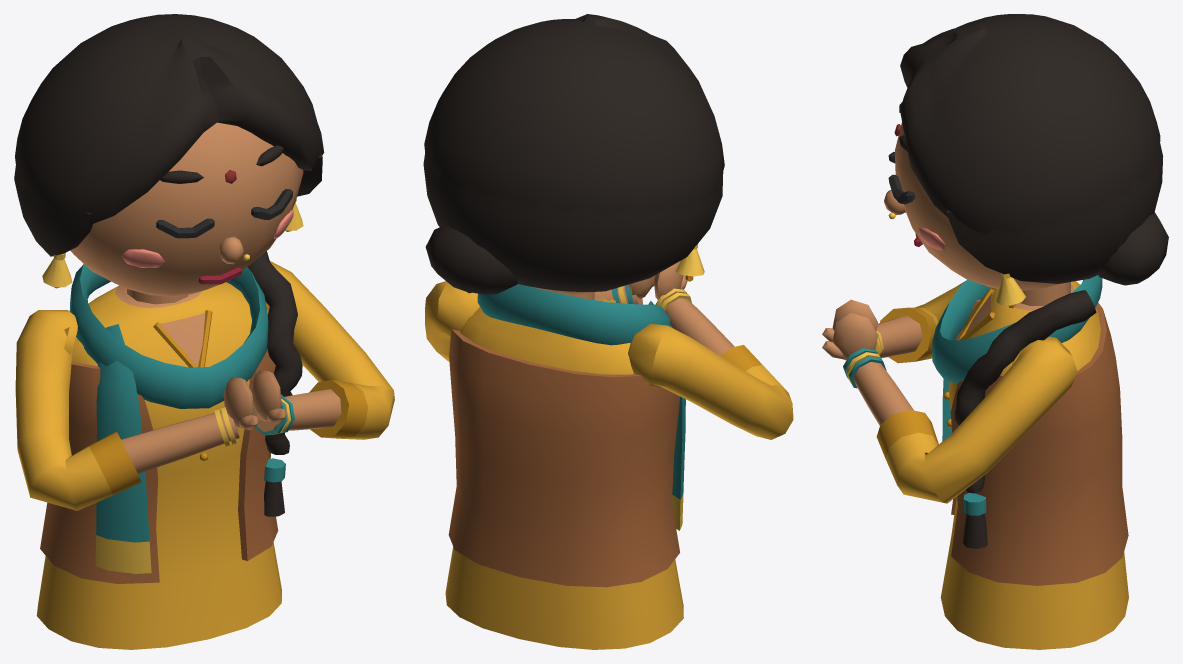
Rendered from rani_namaste.glb.
3 renders of one model, left to right at view 1: azimuth 30°, elevation 25°; view 2: azimuth 150°, elevation 25°; view 3: azimuth 270°, elevation 25°, orthographic. The views are drawn at different scales.
Parts seen in each view (by area): view 1: body, head, arm_r, arm_l; view 2: body, head, arm_r, arm_l; view 3: head, body, arm_l, arm_r.
Boxes of the visible parts, bbox=[...] form: body: bbox=[36, 251, 302, 649]; head: bbox=[14, 14, 324, 296]; arm_r: bbox=[15, 310, 258, 510]; arm_l: bbox=[251, 261, 394, 439]; body: bbox=[445, 284, 685, 649]; head: bbox=[423, 14, 724, 295]; arm_r: bbox=[628, 260, 793, 439]; arm_l: bbox=[425, 275, 655, 361]; head: bbox=[884, 14, 1168, 308]; body: bbox=[932, 275, 1128, 649]; arm_l: bbox=[822, 313, 1077, 503]; arm_r: bbox=[822, 281, 964, 363].
Size of the model in its own units: 0.9635 by 1.47 by 0.8107.
Materials: 1 (1 with a texture image).
